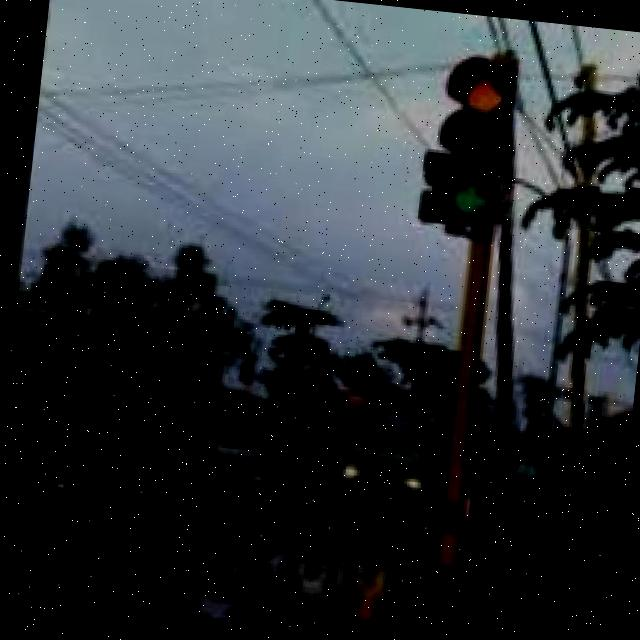red_light: (372, 41, 557, 270)
